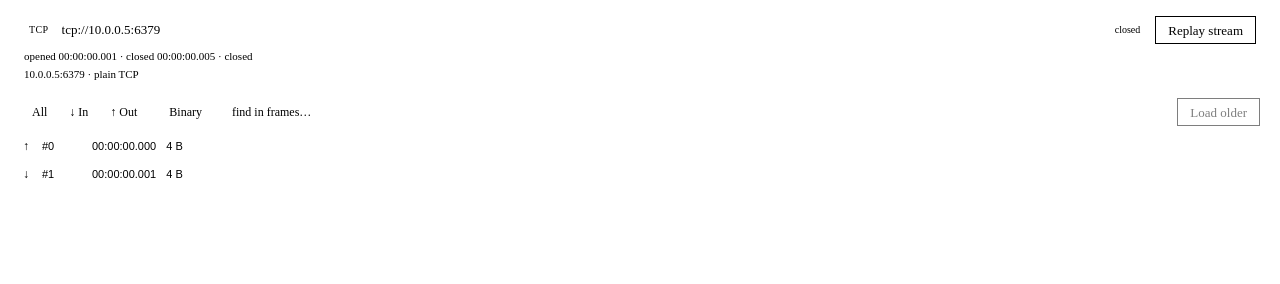
Scenario: Sockets view: raw streams › shows the stream metadata, renders a text frame as hex and offers Replay stream
expect the text with test id "stream-meta" reads "10.0.0.5:6379 · plain TCP": met, box x1=24 y1=68 x2=139 y2=80
expect the button "Replay stream" is enabled: met, box x1=1155 y1=16 x2=1256 y2=44
Click the button with test id "ws-frame-0" at (124, 146), box x1=8 y1=132 x2=1272 y2=160
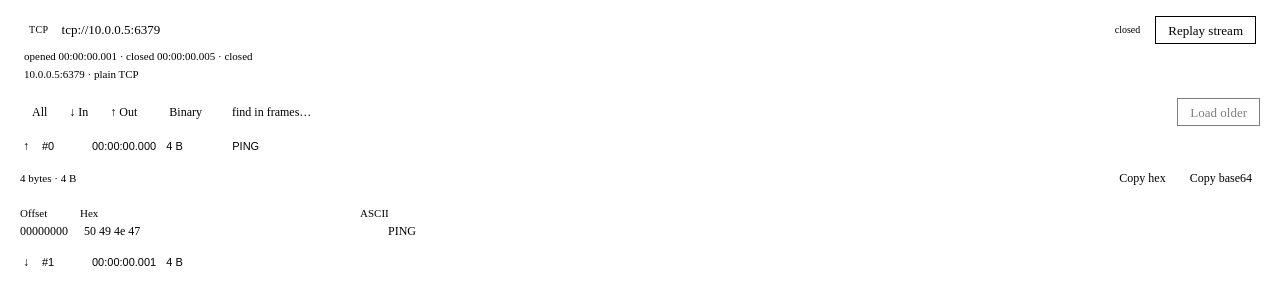
expect the element with test id "frame-body-hex" shows "50 49 4e 47": met, box x1=84 y1=224 x2=251 y2=238
